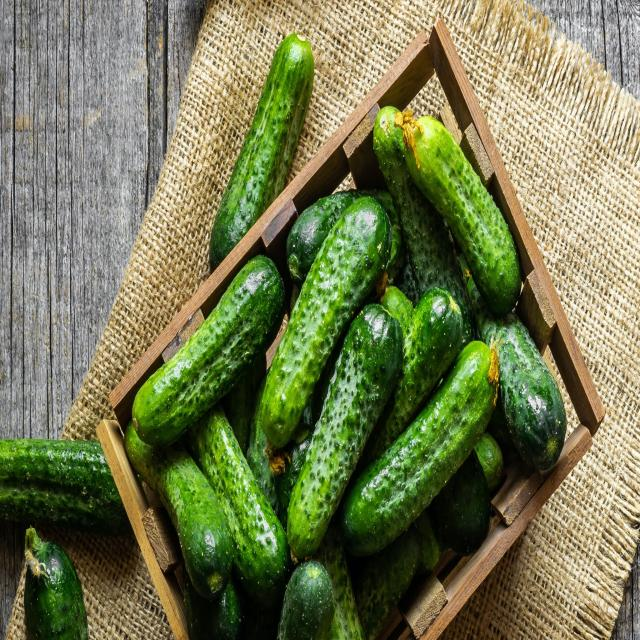Pickle: (339, 341, 498, 557), (261, 197, 392, 448), (288, 304, 402, 560), (132, 256, 285, 446), (395, 109, 521, 317), (209, 33, 314, 271), (374, 107, 475, 347), (185, 407, 290, 606), (125, 422, 234, 601), (468, 278, 566, 470), (369, 289, 462, 461), (0, 439, 131, 536), (278, 560, 334, 639)
